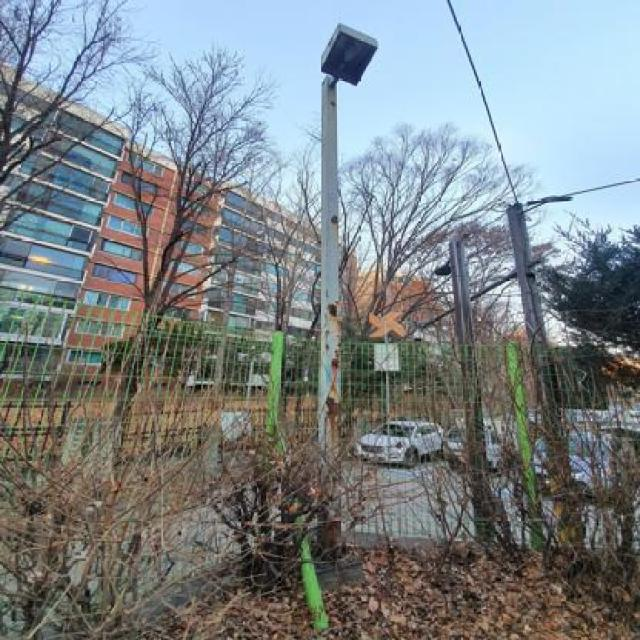pole: (306, 72, 362, 570)
